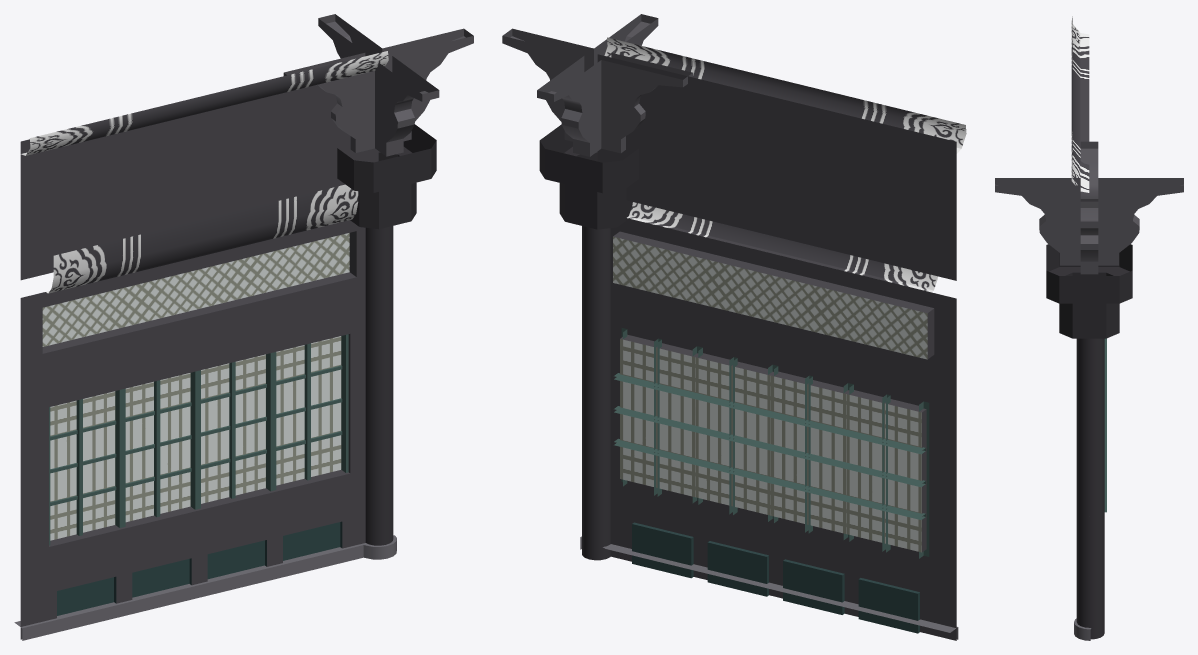
File: stagewall.fbx
The picture shows the model from 3 angles, left to right: view 1: azimuth 30°, elevation 25°; view 2: azimuth 150°, elevation 25°; view 3: azimuth 270°, elevation 25°; orthographic projection. The views are drawn at different scales.
Parts seen in each view (by area): view 1: Plane008; view 2: Plane008; view 3: Plane008.
Part boxes in pixels (x1=…): Plane008: x1=14, y1=14, x2=473, y2=640; Plane008: x1=502, y1=14, x2=966, y2=640; Plane008: x1=995, y1=16, x2=1183, y2=640.
Bounding box in the file's own units: 1252 × 1356 × 503.
